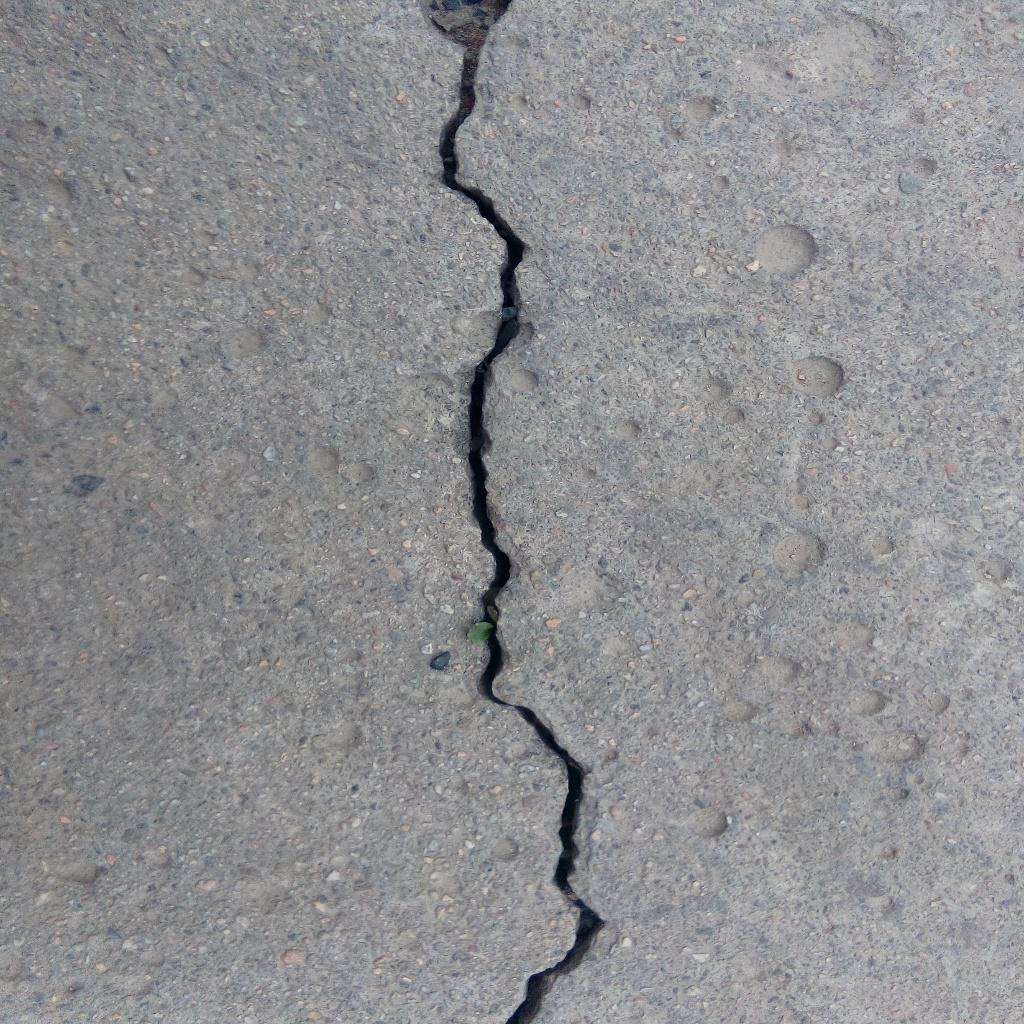Crack: (424, 1, 609, 1024)
